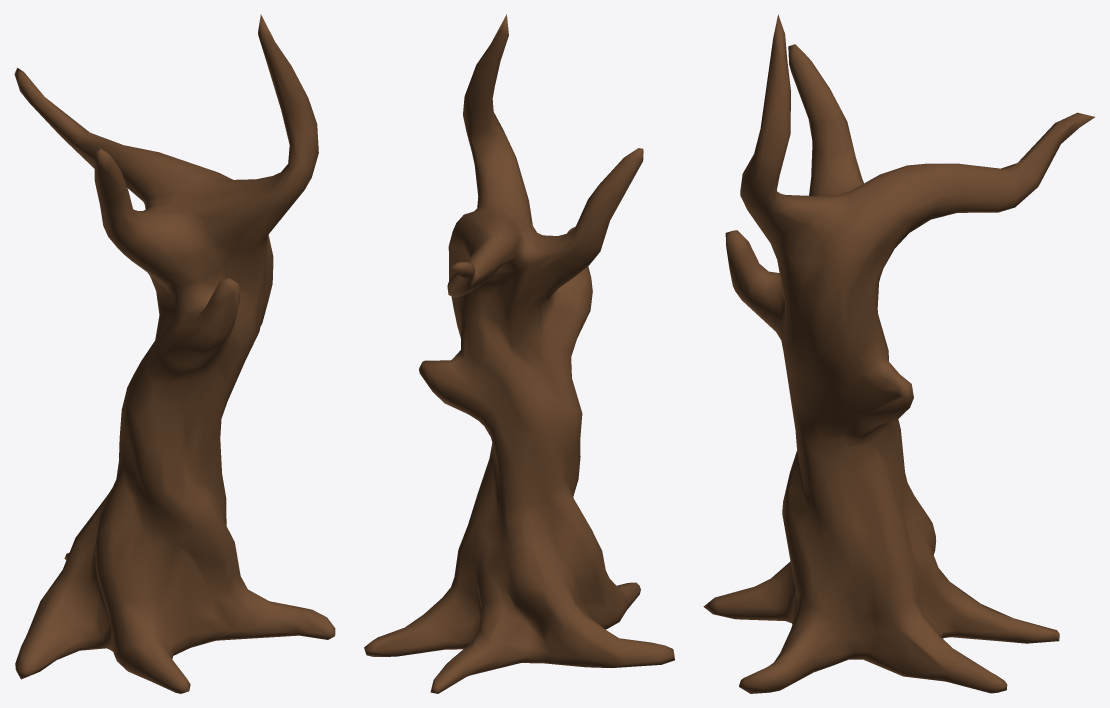
Rendered from Tree_02.fbx.
3 views of the same model, side by side, from view 1: azimuth 30°, elevation 25°; view 2: azimuth 150°, elevation 25°; view 3: azimuth 270°, elevation 25° (orthographic). The views are drawn at different scales.
Parts seen in each view (by area): view 1: Group6519; view 2: Group6519; view 3: Group6519.
Boxes of the visible parts, x1,y1,x2,y2 form: Group6519: (14,14,335,693); Group6519: (364,14,674,693); Group6519: (703,14,1094,693).
Bounding box in the file's own units: 288 × 638 × 344.
